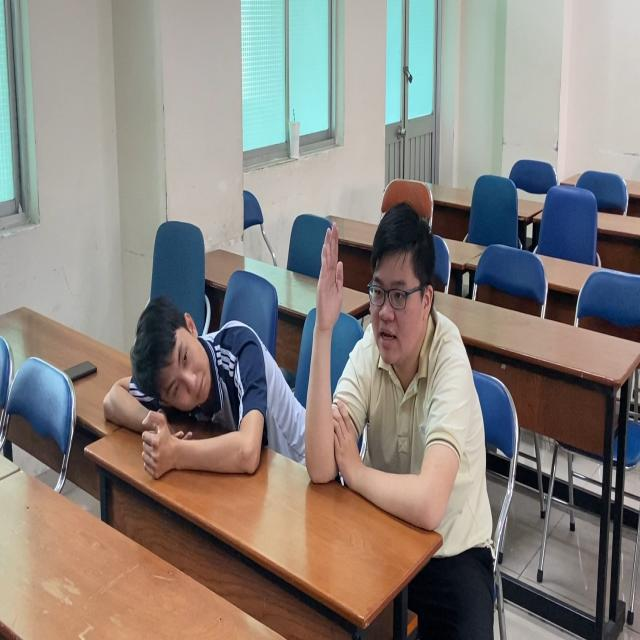raise_hand: (307, 194, 500, 550)
sleep: (93, 282, 305, 476)
